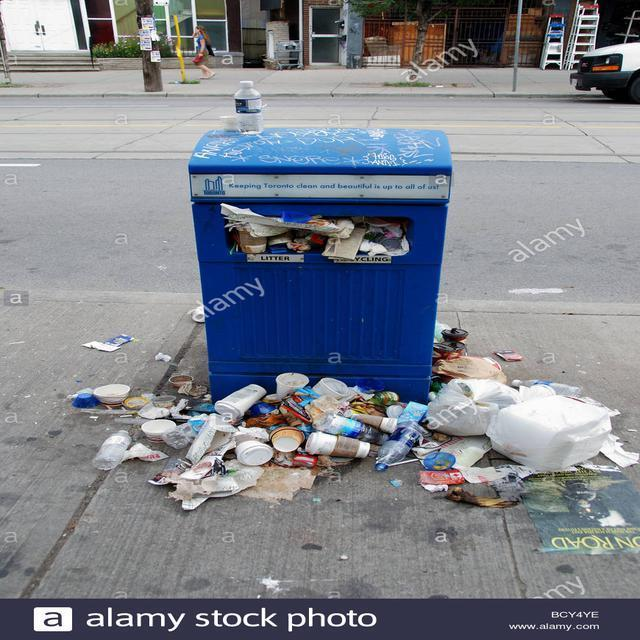garbage: (92, 383, 424, 505), (432, 331, 592, 504), (223, 206, 400, 260)
